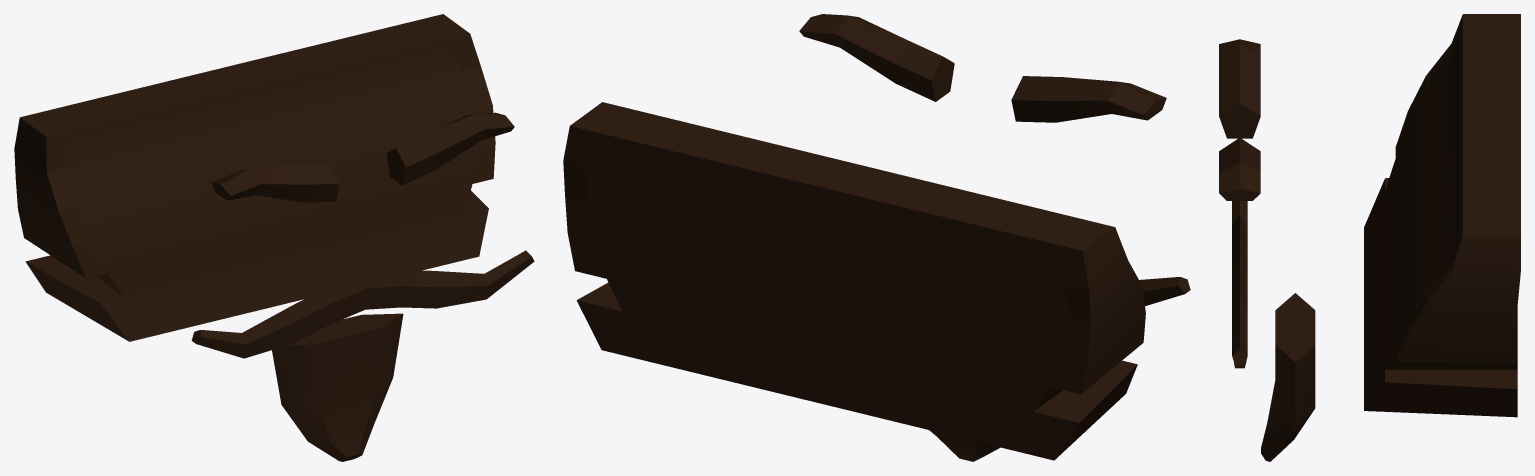
Rendered from Evilmustache.fbx.
3 views of the same model, side by side, from view 1: azimuth 30°, elevation 25°; view 2: azimuth 150°, elevation 25°; view 3: azimuth 270°, elevation 25° (orthographic). The views are drawn at different scales.
Parts seen in each view (by area): view 1: Sideburns, pCylinder11, pCylinder10, pCylinder12; view 2: Sideburns, pCylinder12, pCylinder10, pCylinder11; view 3: Sideburns, pCylinder12, pCylinder11, pCylinder10.
Boxes of the visible parts, left/top/right/bottom form: Sideburns: left=14, top=14, right=495, bottom=341; pCylinder11: left=272, top=313, right=403, bottom=461; pCylinder10: left=191, top=250, right=534, bottom=358; pCylinder12: left=211, top=112, right=514, bottom=202; Sideburns: left=563, top=102, right=1145, bottom=460; pCylinder12: left=799, top=14, right=1166, bottom=122; pCylinder10: left=1139, top=277, right=1190, bottom=305; pCylinder11: left=929, top=430, right=1000, bottom=461; Sideburns: left=1364, top=14, right=1520, bottom=417; pCylinder12: left=1219, top=39, right=1260, bottom=200; pCylinder11: left=1261, top=293, right=1315, bottom=461; pCylinder10: left=1232, top=201, right=1247, bottom=368.
Bounding box in the file's own units: 37.78 × 27.39 × 21.12.
